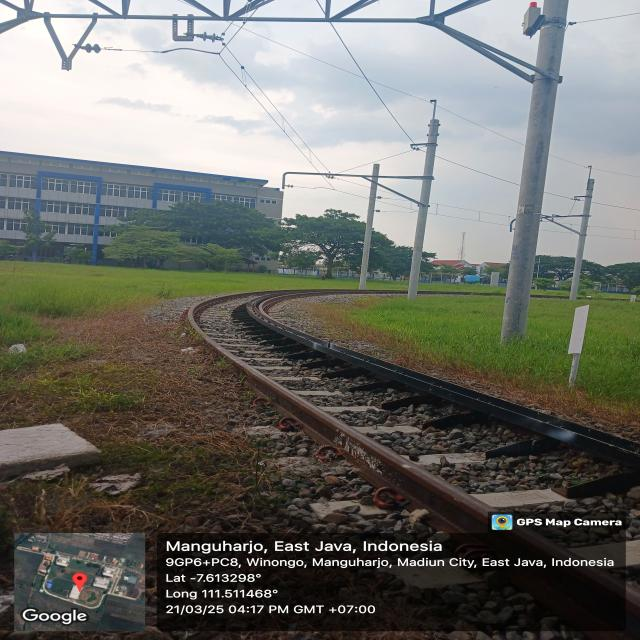rail-detection: (248, 301, 640, 468), (218, 348, 500, 533), (522, 571, 602, 629), (570, 570, 624, 629), (510, 530, 579, 559)
